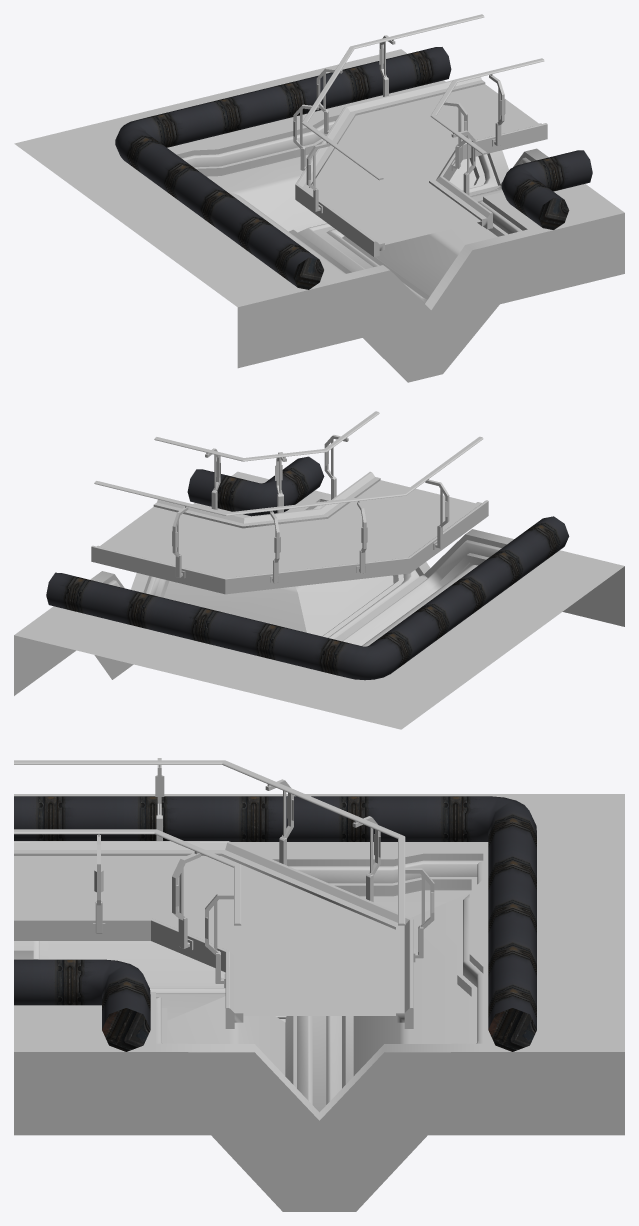
File: Prop_Subflor_base_corner_b.fbx
3 renders of one model, top to bottom at view 1: azimuth 30°, elevation 25°; view 2: azimuth 150°, elevation 25°; view 3: azimuth 270°, elevation 25°, orthographic. The views are drawn at different scales.
Parts seen in each view (by area): view 1: Prop_Subflor_base_corner_b; view 2: Prop_Subflor_base_corner_b; view 3: Prop_Subflor_base_corner_b.
Part boxes in pixels (x1,y1,x2,y2): Prop_Subflor_base_corner_b: (14, 14, 624, 382); Prop_Subflor_base_corner_b: (14, 411, 624, 729); Prop_Subflor_base_corner_b: (14, 758, 624, 1211).
Bounding box in the file's own units: 6000 × 6000 × 3123.
